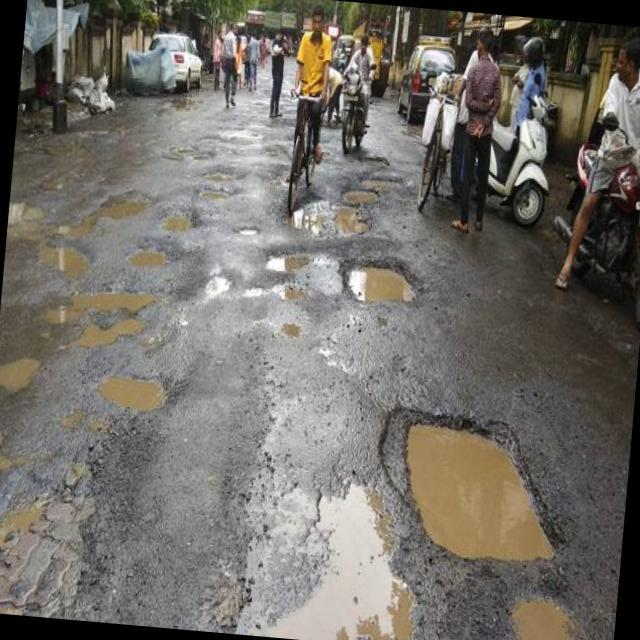Pothole: (382, 396, 584, 582), (267, 450, 431, 640), (3, 175, 140, 286), (32, 274, 171, 332), (341, 250, 449, 318), (0, 473, 55, 601), (54, 306, 156, 375), (497, 581, 611, 640), (89, 376, 193, 426), (288, 184, 380, 236), (332, 175, 414, 228), (170, 254, 237, 318), (235, 269, 314, 318), (0, 340, 53, 397), (113, 228, 170, 278), (0, 420, 39, 490), (152, 200, 201, 233), (198, 163, 248, 193), (260, 244, 322, 263), (274, 320, 304, 349), (192, 184, 235, 202), (222, 224, 255, 242)
